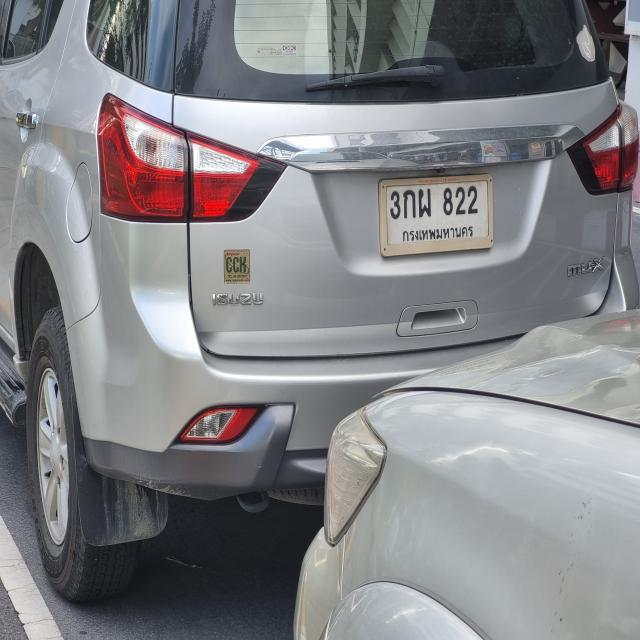license_plate: (379, 166, 497, 256)
